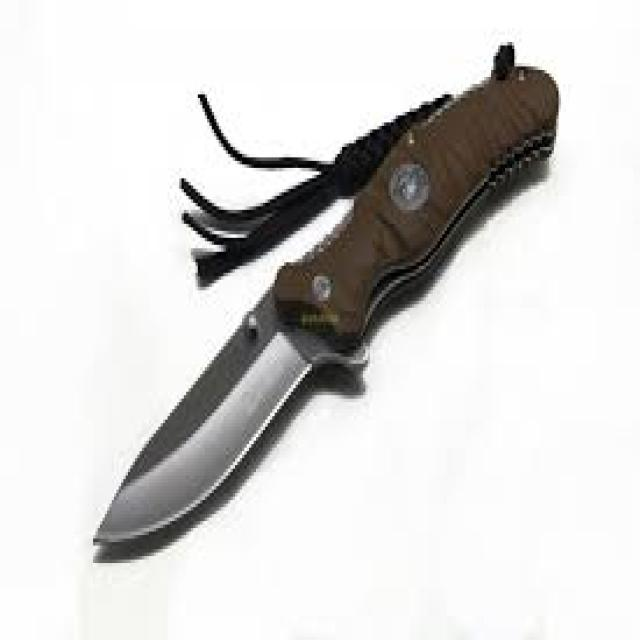knives: (89, 35, 564, 570)
